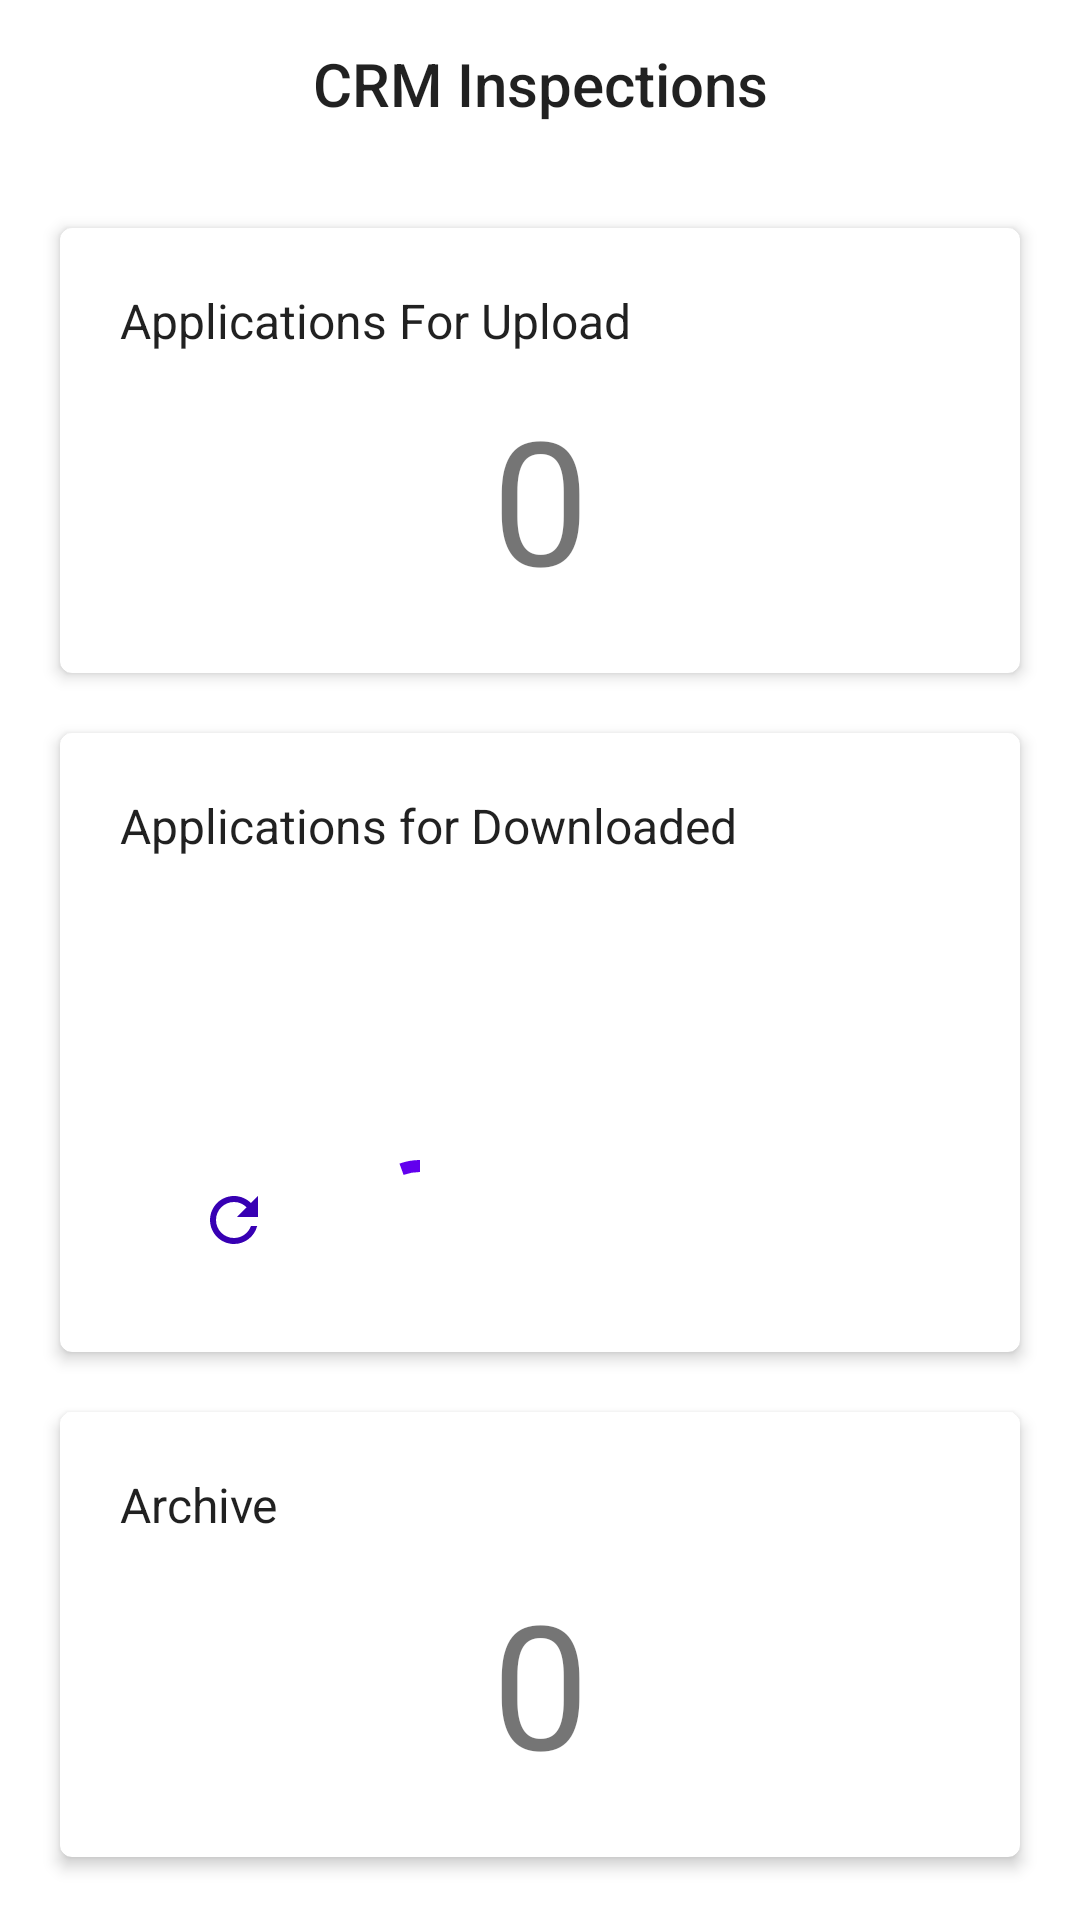

Where icons sit on this 1080×1920 app screen, as bbox=[x1, y1, x2, y2]:
refresh: bbox=[210, 1196, 258, 1244]
